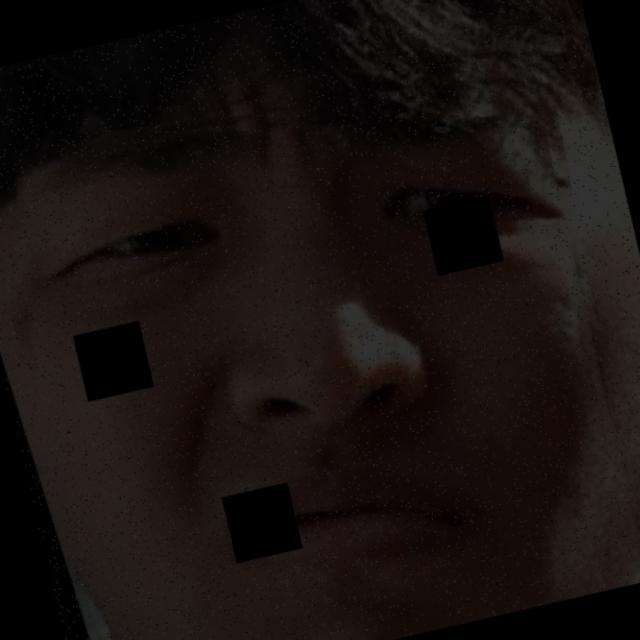Disgust: (33, 72, 640, 613)
